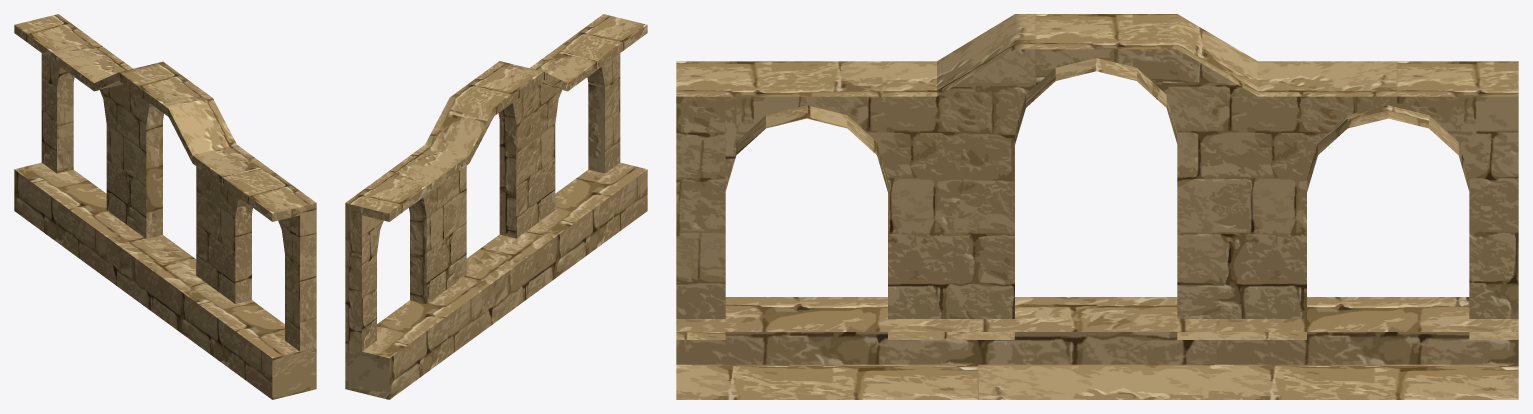
Rendered from corridor_3_uneven.fbx.
3 renders of one model, left to right at view 1: azimuth 30°, elevation 25°; view 2: azimuth 150°, elevation 25°; view 3: azimuth 270°, elevation 25°, orthographic. The views are drawn at different scales.
Visible parts, largest first — view 1: polySurface1959; view 2: polySurface1959; view 3: polySurface1959.
Boxes of the visible parts, box(x1,y1,x2,y2) form: polySurface1959: box(14, 14, 316, 399); polySurface1959: box(345, 14, 647, 399); polySurface1959: box(676, 14, 1518, 399).
Size of the model in its own units: 37.92 by 176 by 382.
